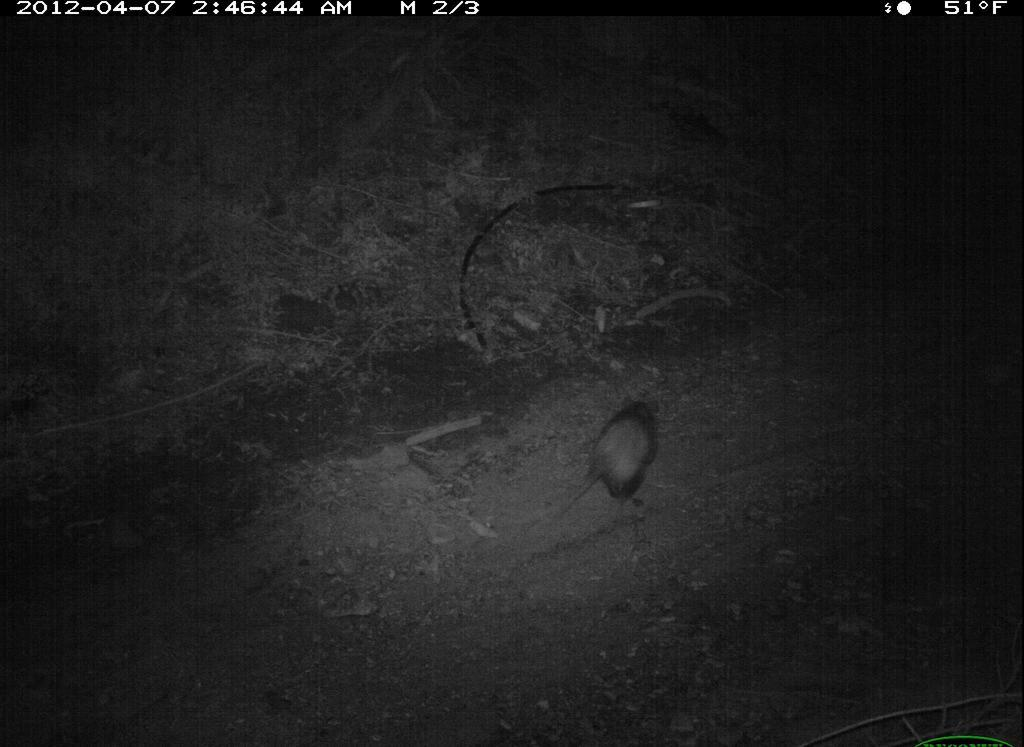opossum: (545, 397, 673, 529)
